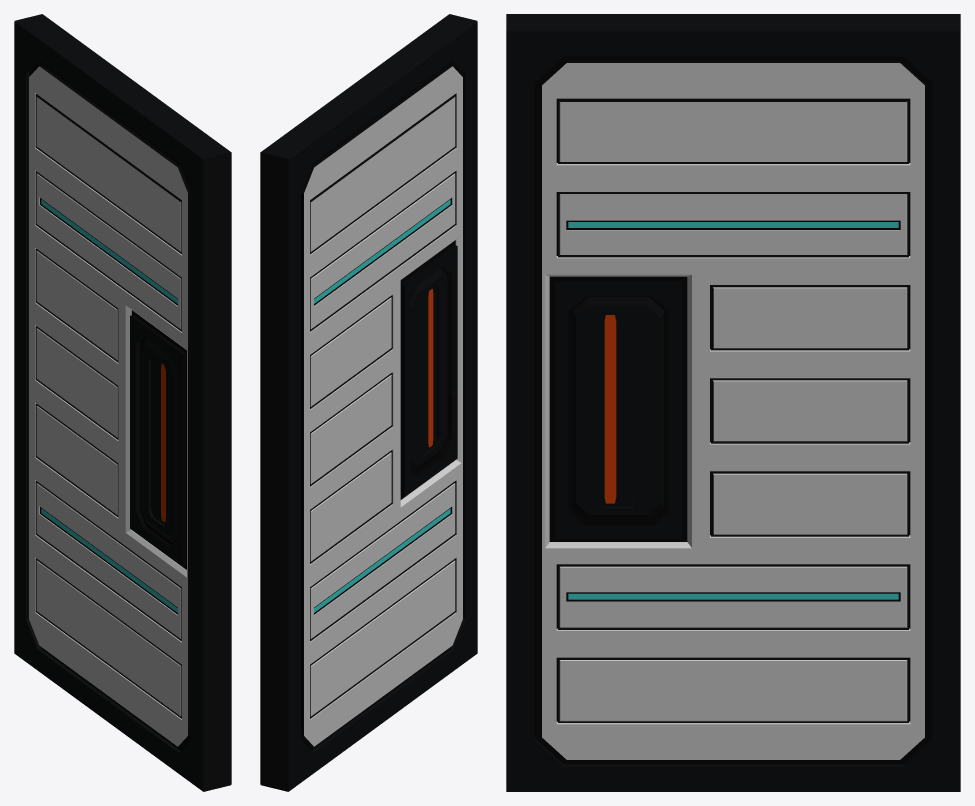
The model's file is SM_Door_Double_V3R.obj.
The picture shows the model from 3 angles, left to right: view 1: azimuth 30°, elevation 25°; view 2: azimuth 150°, elevation 25°; view 3: azimuth 270°, elevation 25°; orthographic projection. The views are drawn at different scales.
Parts seen in each view (by area): view 1: SM_Door_Double_V3R; view 2: SM_Door_Double_V3R; view 3: SM_Door_Double_V3R.
Boxes of the visible parts, x1=… form: SM_Door_Double_V3R: x1=14, y1=14, x2=231, y2=791; SM_Door_Double_V3R: x1=260, y1=14, x2=477, y2=791; SM_Door_Double_V3R: x1=506, y1=14, x2=960, y2=791.
Bounding box in the file's own units: 0.0885 × 1.85 × 1.
